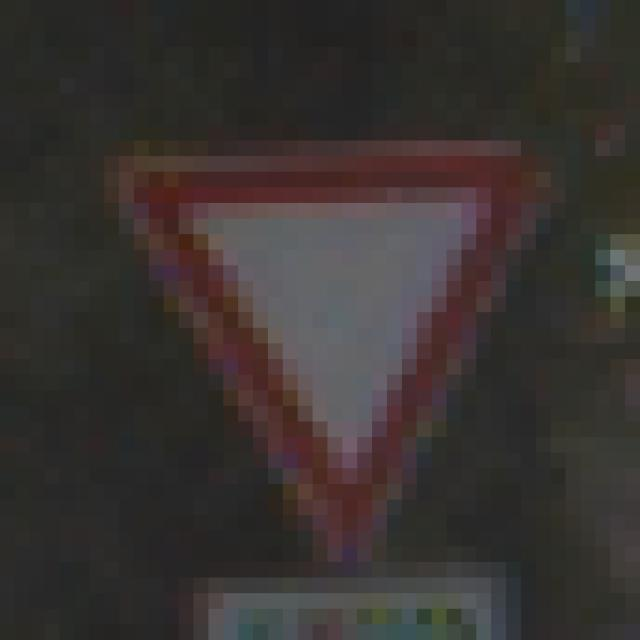Give Way: (76, 79, 567, 563)
